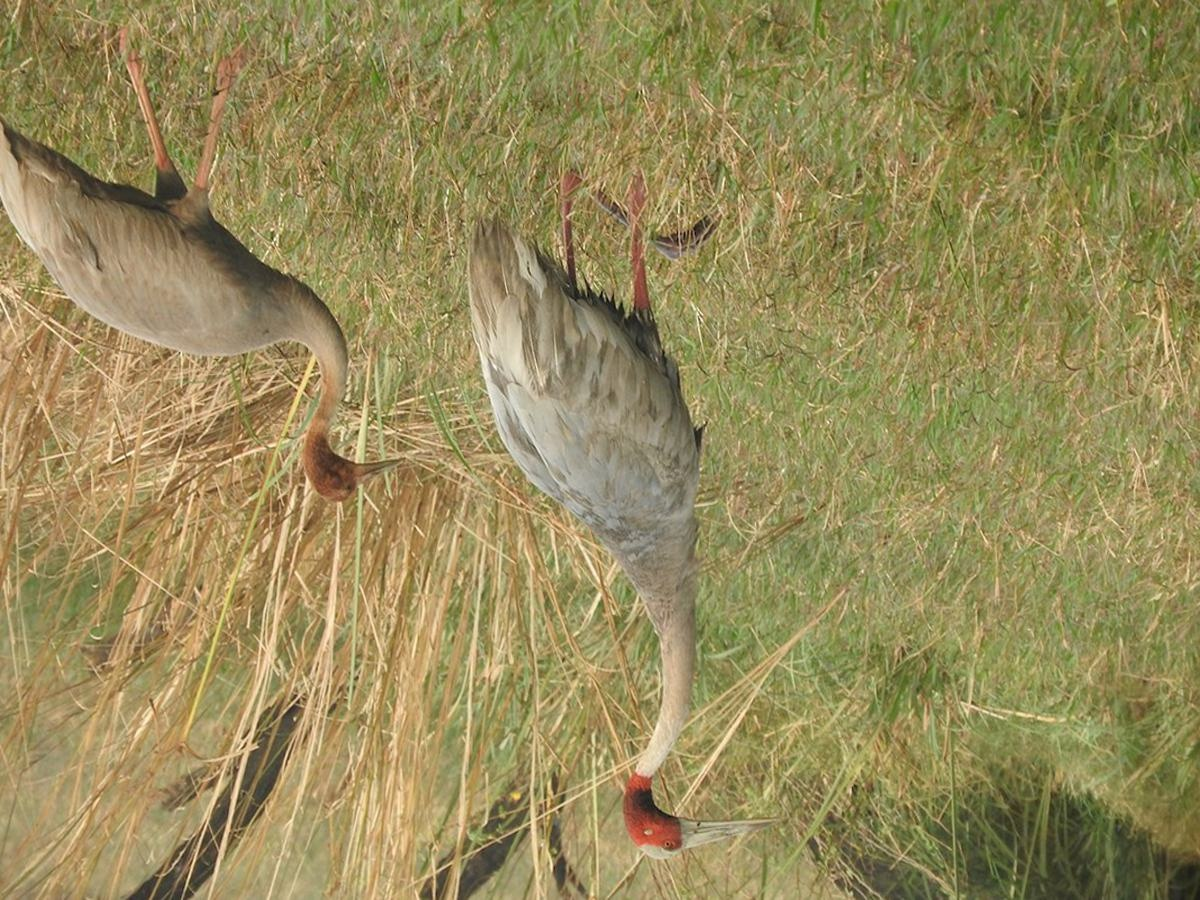crane: (481, 137, 795, 862), (1, 64, 409, 501)
